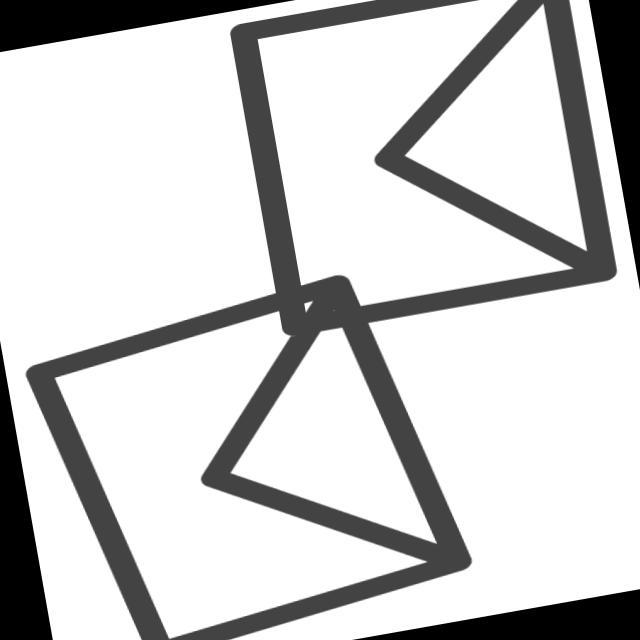letter: (8, 253, 486, 640), (215, 1, 631, 349)
